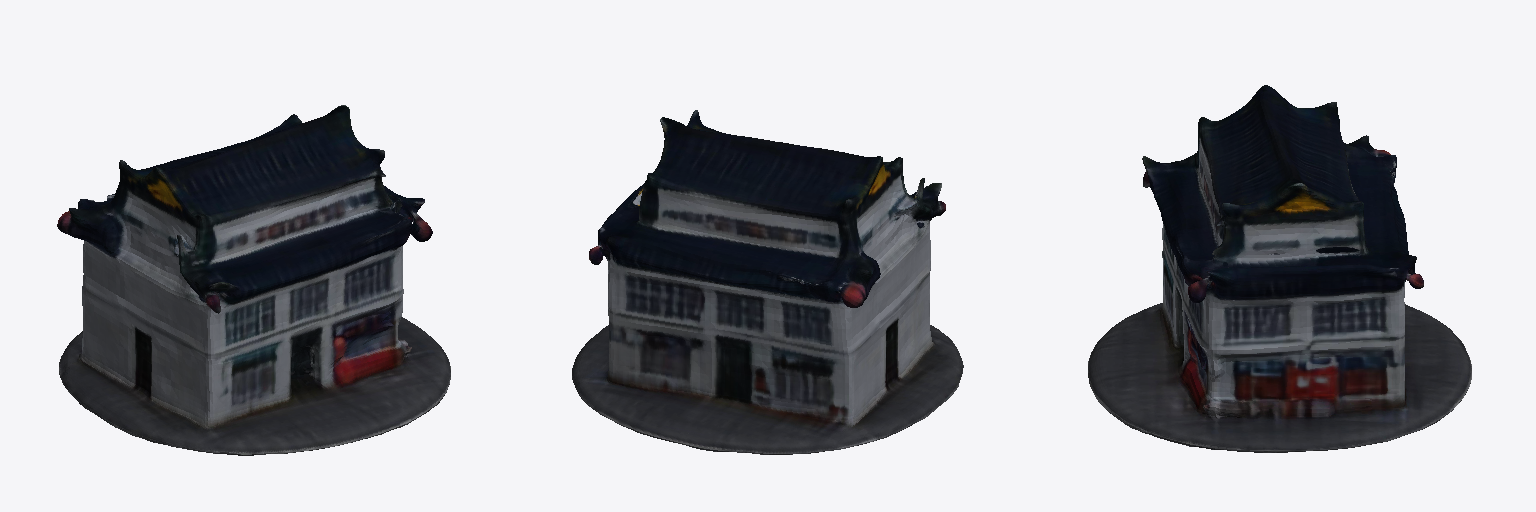
3 renders of one model, left to right at view 1: azimuth 30°, elevation 25°; view 2: azimuth 150°, elevation 25°; view 3: azimuth 270°, elevation 25°, orthographic.
Parts seen in each view (by area): view 1: mesh; view 2: mesh; view 3: mesh.
Part boxes in pixels (left/top/right/bottom): mesh: left=57, top=105, right=450, bottom=455; mesh: left=572, top=110, right=963, bottom=454; mesh: left=1088, top=85, right=1471, bottom=452.
Size of the model in its own units: 0.992 by 0.6882 by 0.9988.
1 materials, 1 textured.